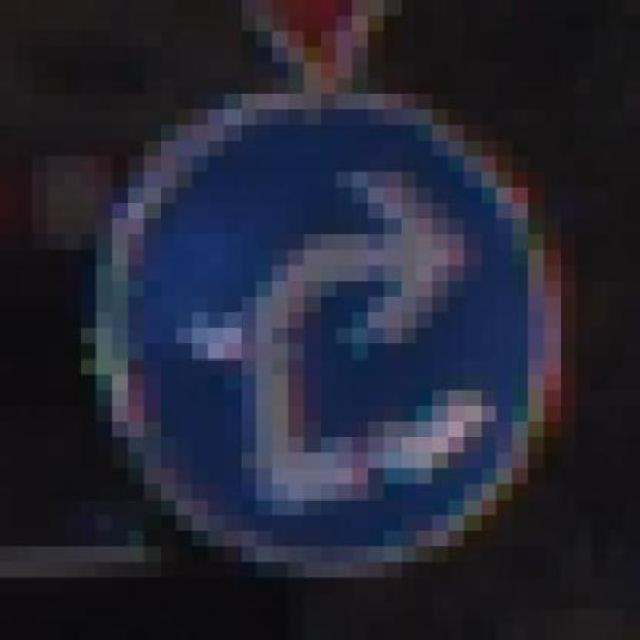Turn right ahead: (64, 95, 591, 563)
